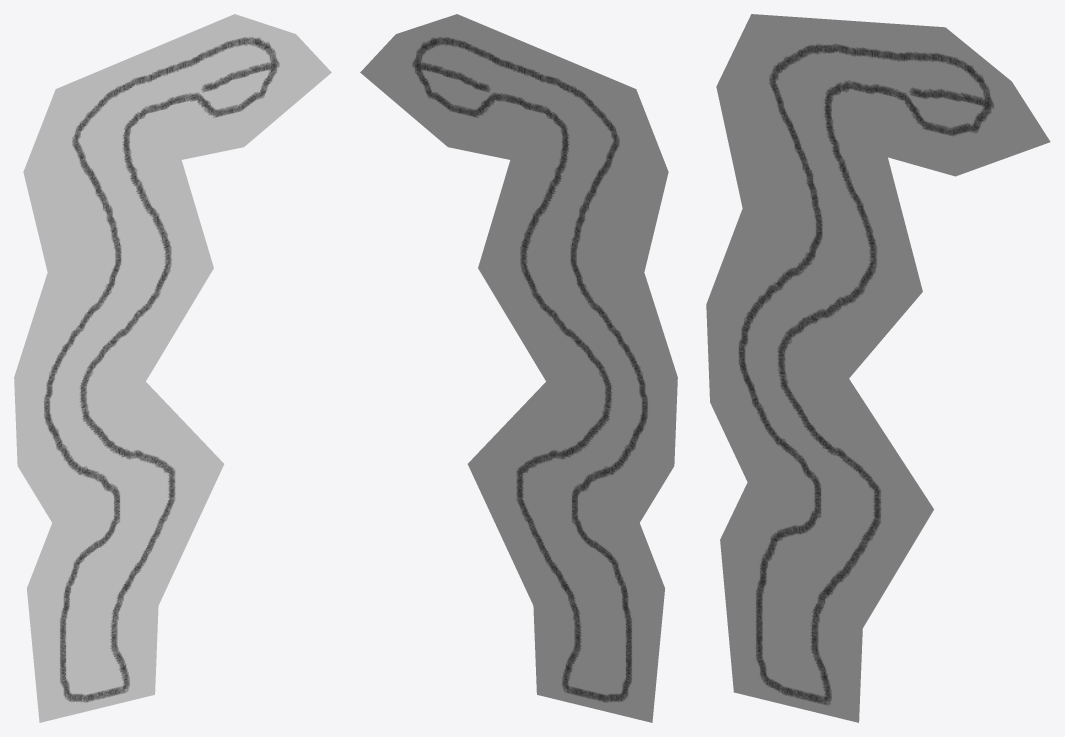
The model's file is Lamppost2.fbx.
The picture shows the model from 3 angles, left to right: view 1: azimuth 30°, elevation 25°; view 2: azimuth 150°, elevation 25°; view 3: azimuth 330°, elevation 25°; orthographic projection. The views are drawn at different scales.
Visible parts, largest first — view 1: Plane.019; view 2: Plane.019; view 3: Plane.019.
Boxes of the visible parts, bbox=[...] form: Plane.019: bbox=[14, 14, 331, 722]; Plane.019: bbox=[360, 14, 677, 722]; Plane.019: bbox=[706, 14, 1050, 722].
Size of the model in its own units: 47.13 by 93.73 by 1.53e-05.
1 material, 1 textured.
